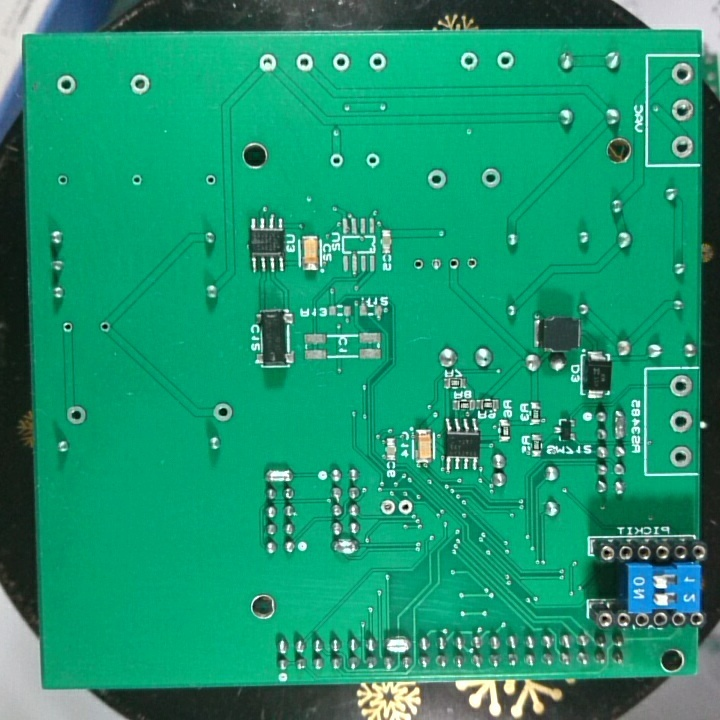F: (666, 372, 694, 400), (668, 95, 696, 123), (477, 163, 504, 192), (668, 59, 695, 87), (423, 166, 451, 193), (667, 408, 694, 435), (668, 443, 694, 469), (54, 72, 79, 99), (64, 401, 88, 429), (210, 400, 236, 425), (670, 132, 694, 159), (457, 48, 482, 72), (128, 72, 151, 98), (367, 50, 390, 75), (256, 50, 278, 75), (331, 50, 352, 76), (495, 49, 517, 71), (294, 51, 314, 75), (377, 496, 397, 518), (362, 150, 381, 172), (397, 496, 414, 519), (326, 151, 345, 169), (128, 169, 145, 189), (427, 255, 444, 275), (60, 319, 77, 338), (200, 172, 217, 189), (54, 171, 70, 189), (446, 255, 462, 273), (97, 318, 112, 337), (463, 255, 479, 272), (411, 255, 425, 274)
P: (611, 406, 628, 443), (383, 635, 414, 655), (262, 466, 293, 484), (330, 538, 359, 557)
